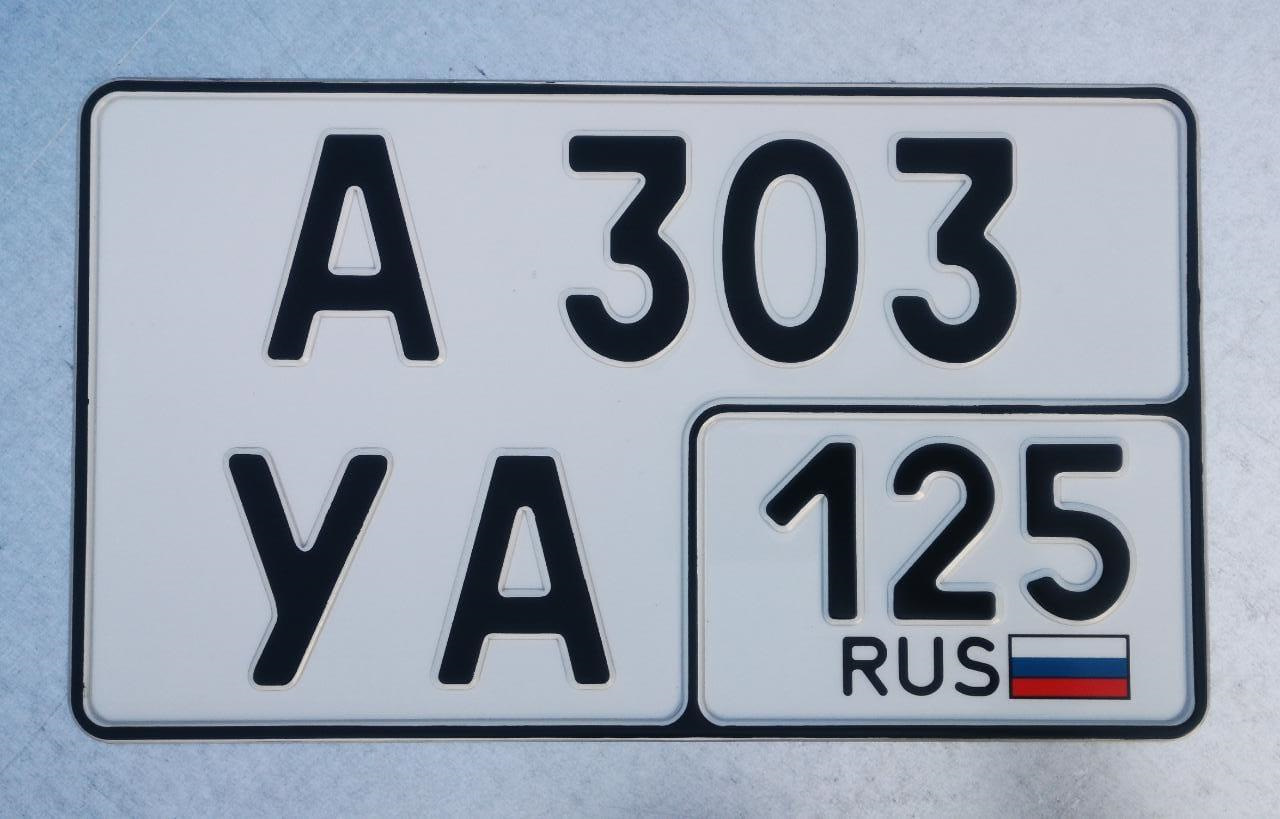number_plate: (102, 87, 1178, 720)
